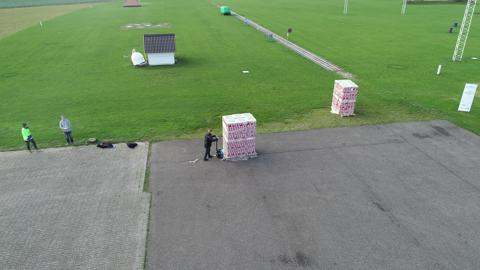RockwoolPallet: (222, 112, 257, 157)
